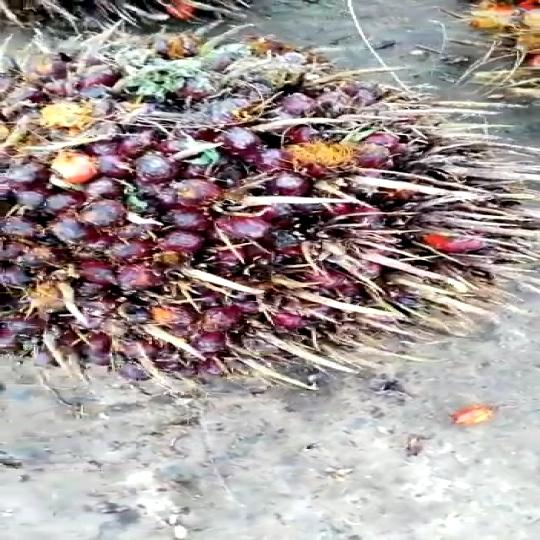masak: (0, 31, 540, 392)
